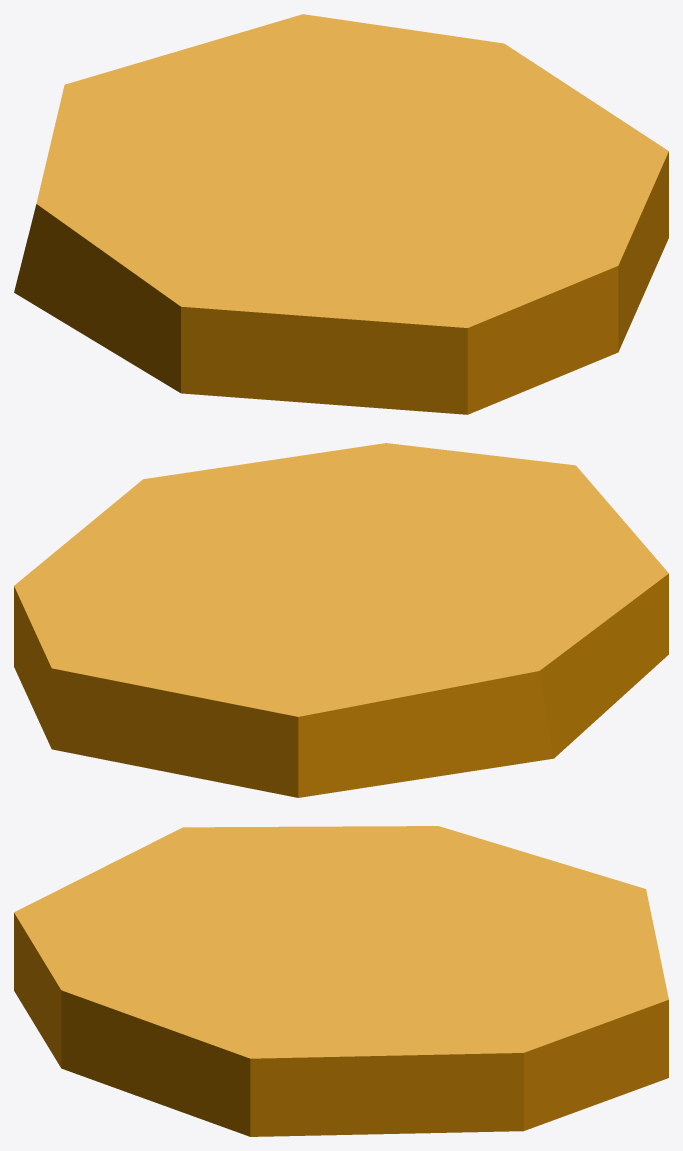
File: potato03.gltf
3 views of the same model, one above another, from view 1: azimuth 30°, elevation 25°; view 2: azimuth 150°, elevation 25°; view 3: azimuth 270°, elevation 25° (orthographic). The views are drawn at different scales.
Parts seen in each view (by area): view 1: Cylinder.001; view 2: Cylinder.001; view 3: Cylinder.001.
Boxes of the visible parts, box(x1,y1,x2,y2) form: Cylinder.001: box(14, 14, 668, 414); Cylinder.001: box(14, 443, 668, 797); Cylinder.001: box(14, 826, 668, 1136).
Bounding box in the file's own units: 0.0576 × 0.00872 × 0.0661.
1 material, 1 textured.
